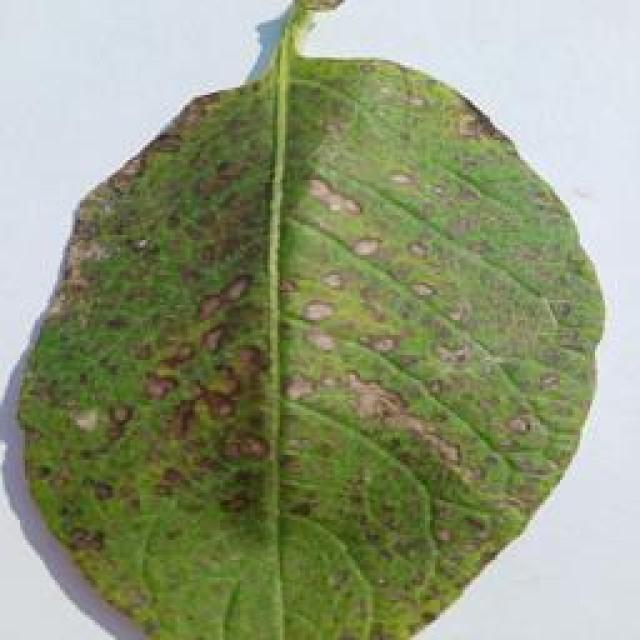Potato_Early_Blight: (21, 49, 630, 640)
